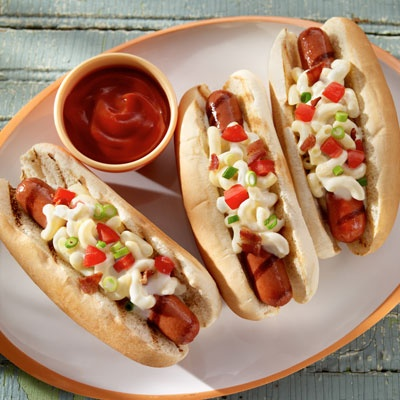background: (0, 10, 250, 229), (39, 39, 106, 102)
